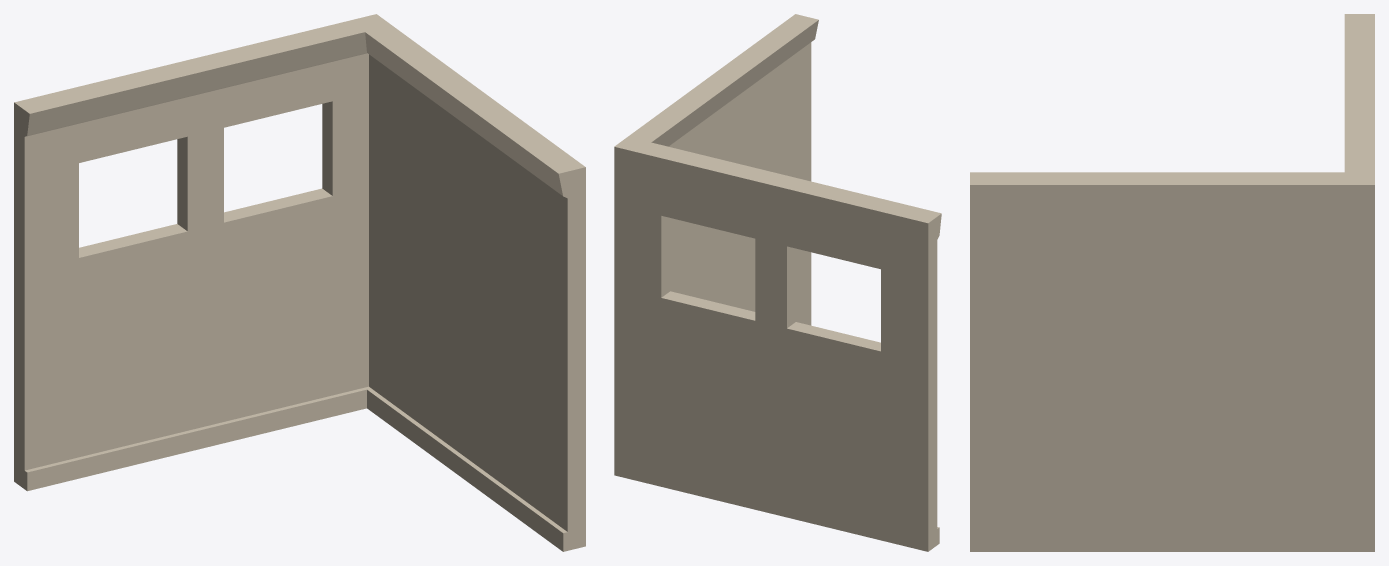
The model's file is Wall_2.gltf.
3 renders of one model, left to right at view 1: azimuth 30°, elevation 25°; view 2: azimuth 150°, elevation 25°; view 3: azimuth 270°, elevation 25°, orthographic. The views are drawn at different scales.
Parts seen in each view (by area): view 1: SM_Wall_3_191_StaticMeshComponent0; view 2: SM_Wall_3_191_StaticMeshComponent0; view 3: SM_Wall_3_191_StaticMeshComponent0.
Part boxes in pixels (left/top/right/bottom): SM_Wall_3_191_StaticMeshComponent0: left=14, top=14, right=585, bottom=551; SM_Wall_3_191_StaticMeshComponent0: left=614, top=14, right=941, bottom=551; SM_Wall_3_191_StaticMeshComponent0: left=970, top=14, right=1374, bottom=551.
Bounding box in the file's own units: 4 × 4 × 4.
1 material, 1 textured.
